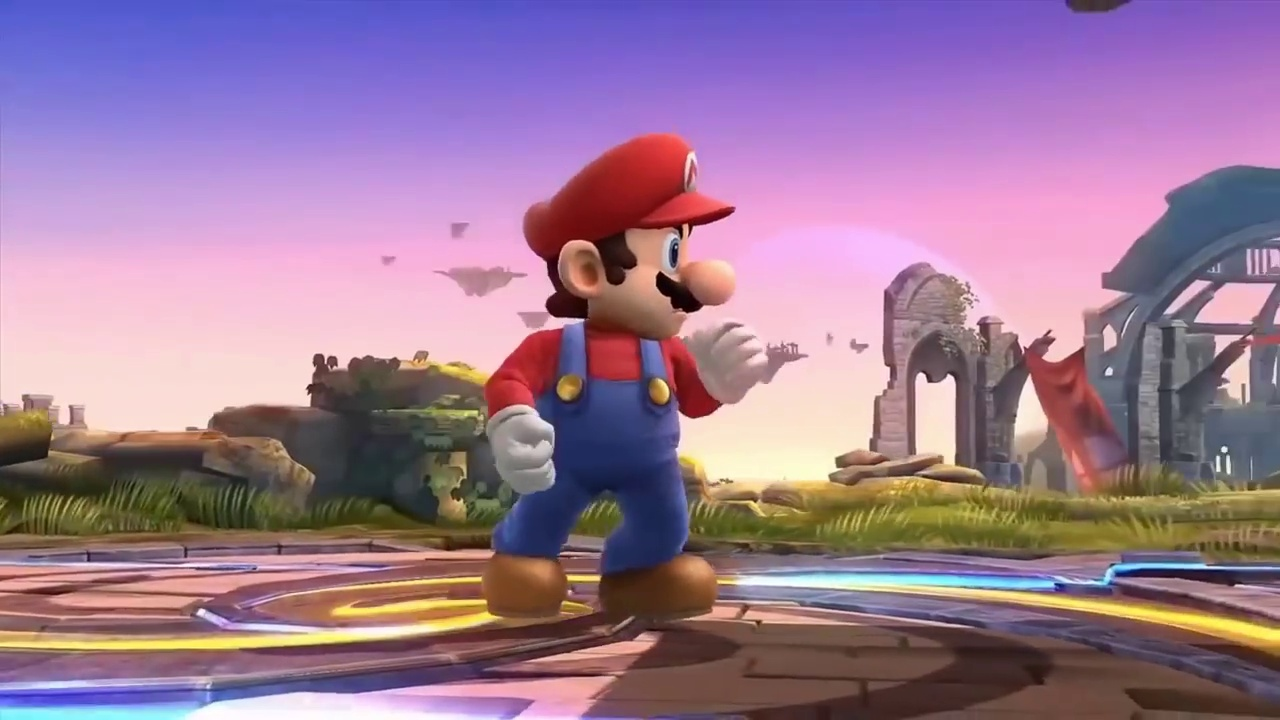Mario: (486, 132, 770, 621)
